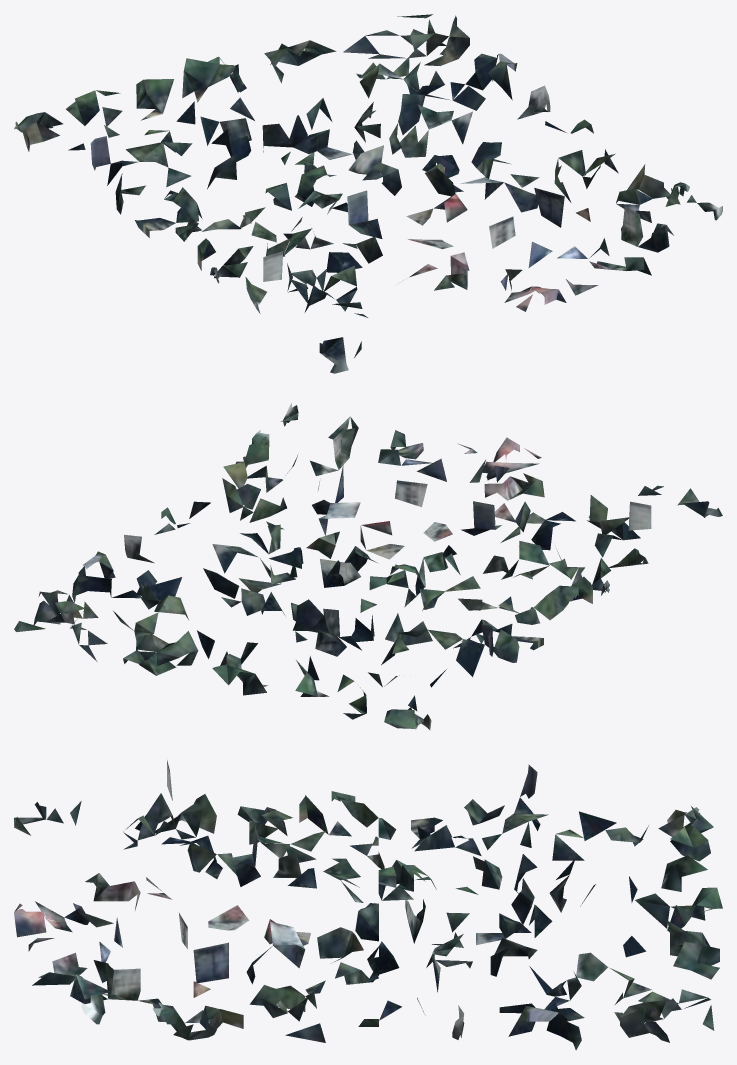
The picture shows the model from 3 angles, top to bottom: view 1: azimuth 30°, elevation 25°; view 2: azimuth 150°, elevation 25°; view 3: azimuth 270°, elevation 25°; orthographic projection. The views are drawn at different scales.
Parts seen in each view (by area): view 1: 30436272704370415_1; view 2: 30436272704370415_1; view 3: 30436272704370415_1.
Part boxes in pixels (<box>): 30436272704370415_1: <box>14,14,722,373</box>; 30436272704370415_1: <box>14,403,722,730</box>; 30436272704370415_1: <box>14,760,722,1050</box>.
Bounding box in the file's own units: 221 × 33.32 × 297.
Materials: 1 (1 with a texture image).
